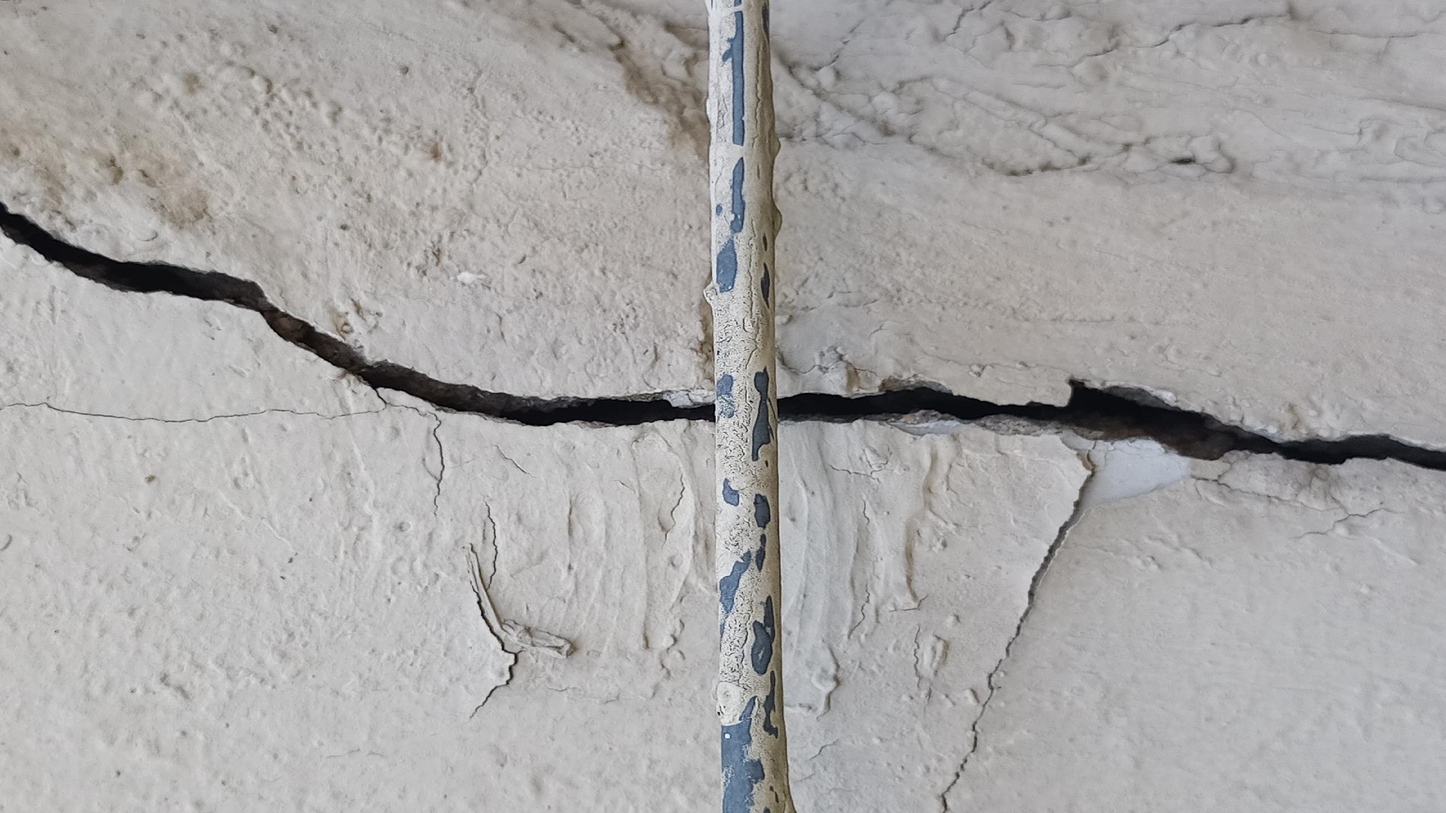crack: (9, 193, 708, 445), (784, 365, 1438, 480), (930, 446, 1103, 805), (16, 398, 368, 434)
